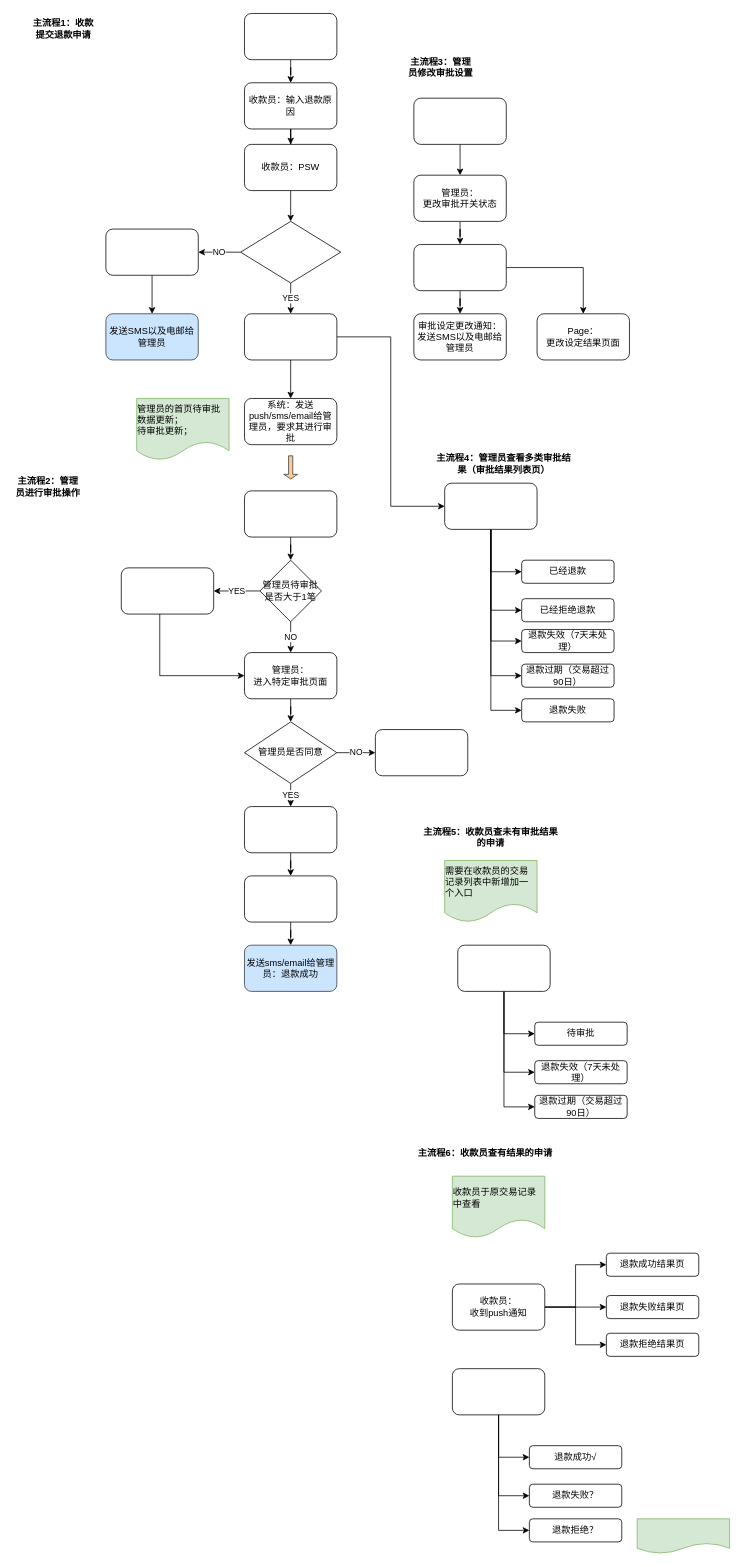
This 743x1567 diagram has some shape labels left out. Here are the shapes that lost their labels. From the top down, the box of each, then its label:
(244, 13, 337, 60): 收款员选择退款
(413, 97, 506, 144): 管理员： 进入审批设定界面
(105, 228, 198, 275): 收款员： 退款成功页面
(240, 221, 341, 283): 管理员是否要求审批
(413, 244, 506, 291): 2FA（关开均要）
(244, 313, 337, 360): 收款员： 审批提交成功页面
(244, 490, 337, 537): 管理员： 点击push/进入审批页面选中某一事项
(444, 482, 537, 529): 管理员： 进入审批列表页
(121, 567, 214, 614): 管理员： 进入待审批列表页
(375, 729, 468, 776): 管理员： 审批拒绝页面
(244, 806, 337, 853): 2FA（先密码后OTP）
(244, 875, 337, 922): 管理员： 退款通过页面
(457, 944, 550, 991): 收款员： 进入【未审批列表】页
(452, 1368, 545, 1415): 收款员： 进入原交易记录列表页
(636, 1518, 730, 1553): 应该去EWA列表中查看
